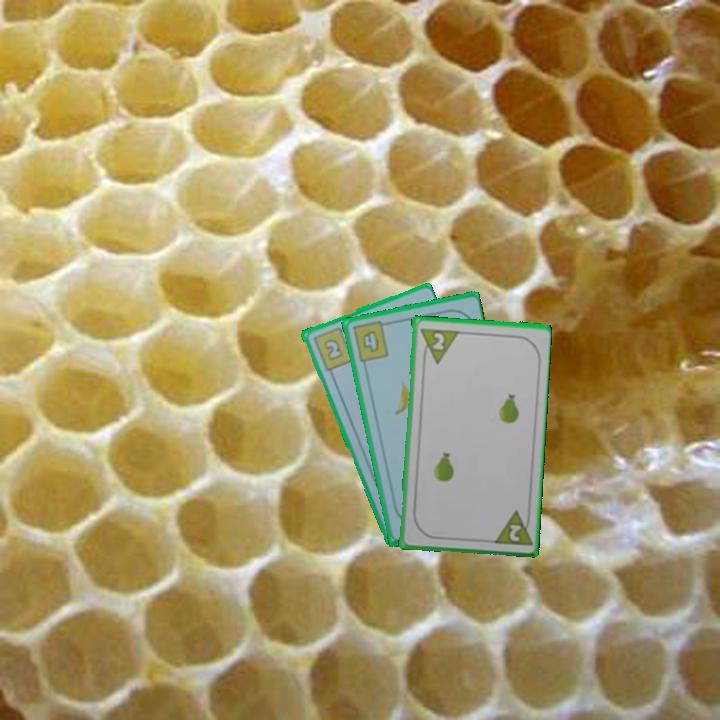2b: (309, 323, 356, 373)
2p: (416, 324, 460, 366), (489, 506, 533, 548)
4b: (349, 318, 392, 365)
